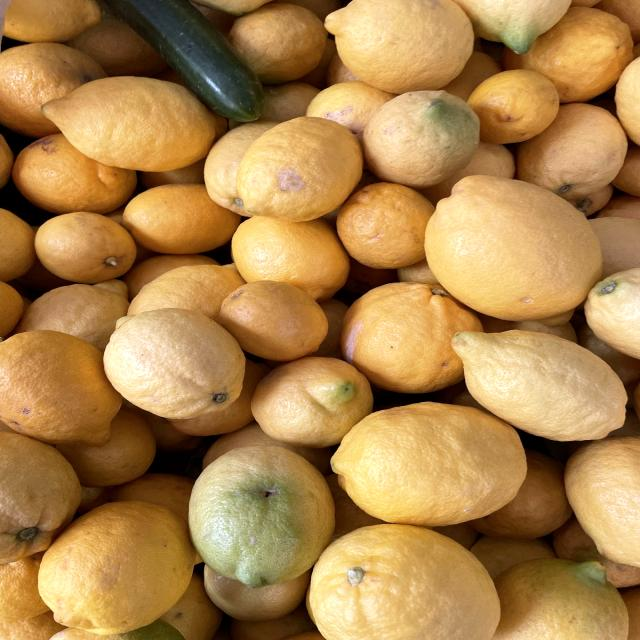lemon: (418, 160, 622, 319), (19, 495, 205, 635), (180, 436, 345, 588), (446, 321, 640, 444), (84, 300, 259, 424), (216, 105, 388, 225), (313, 1, 491, 105), (35, 76, 229, 171), (25, 204, 155, 283), (460, 67, 573, 144)
